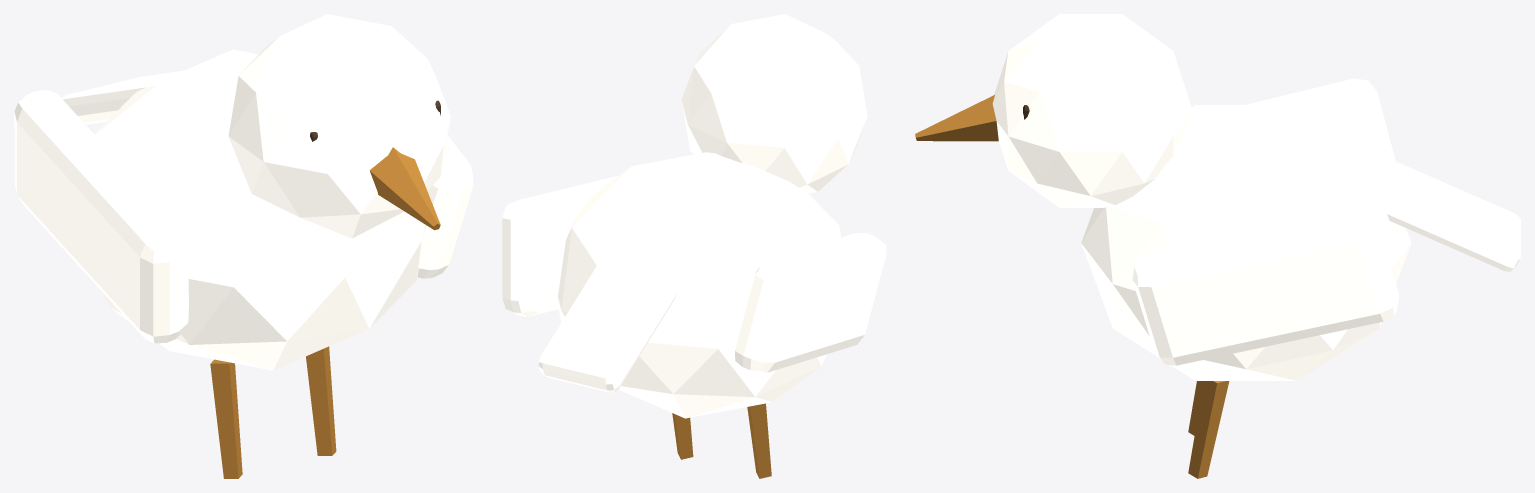
File: oiseau.glb
The picture shows the model from 3 angles, left to right: view 1: azimuth 30°, elevation 25°; view 2: azimuth 150°, elevation 25°; view 3: azimuth 270°, elevation 25°; orthographic projection. The views are drawn at different scales.
Parts seen in each view (by area): view 1: oiseau; view 2: oiseau; view 3: oiseau.
Boxes of the visible parts, x1,y1,x2,y2 form: oiseau: (14,14,473,478); oiseau: (502,14,886,478); oiseau: (915,14,1520,478).
Bounding box in the file's own units: 0.3706 × 0.4968 × 0.6237.
